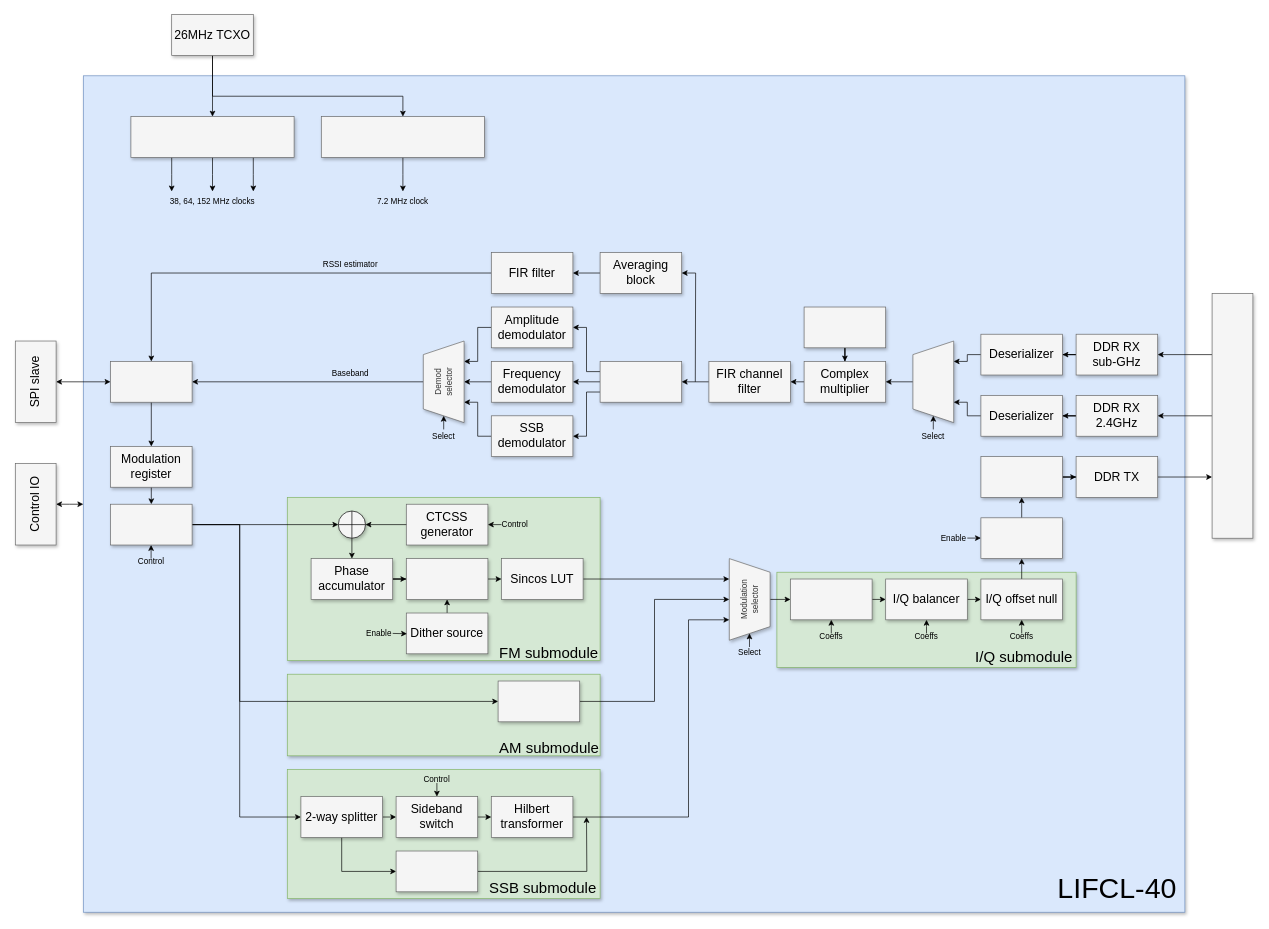
Some shapes in this 1269 by 929 pixel diagram are drawn without their labels. The centre of each missing label's shape, as x and y in pixels:
40kHz LO: [845,328]
Amplitude modulator: [539,702]
AT86RF215: [1232,416]
Band selector: [933,382]
Control registers: [151,382]
Decimator: [641,382]
Delay block: [437,872]
Dither adder: [447,579]
PLL0: [213,137]
PLL1: [403,137]
Polynomial predistortion: [831,600]
Sampler: [151,525]
Serializer: [1022,477]
Zero word insertion: [1022,538]
